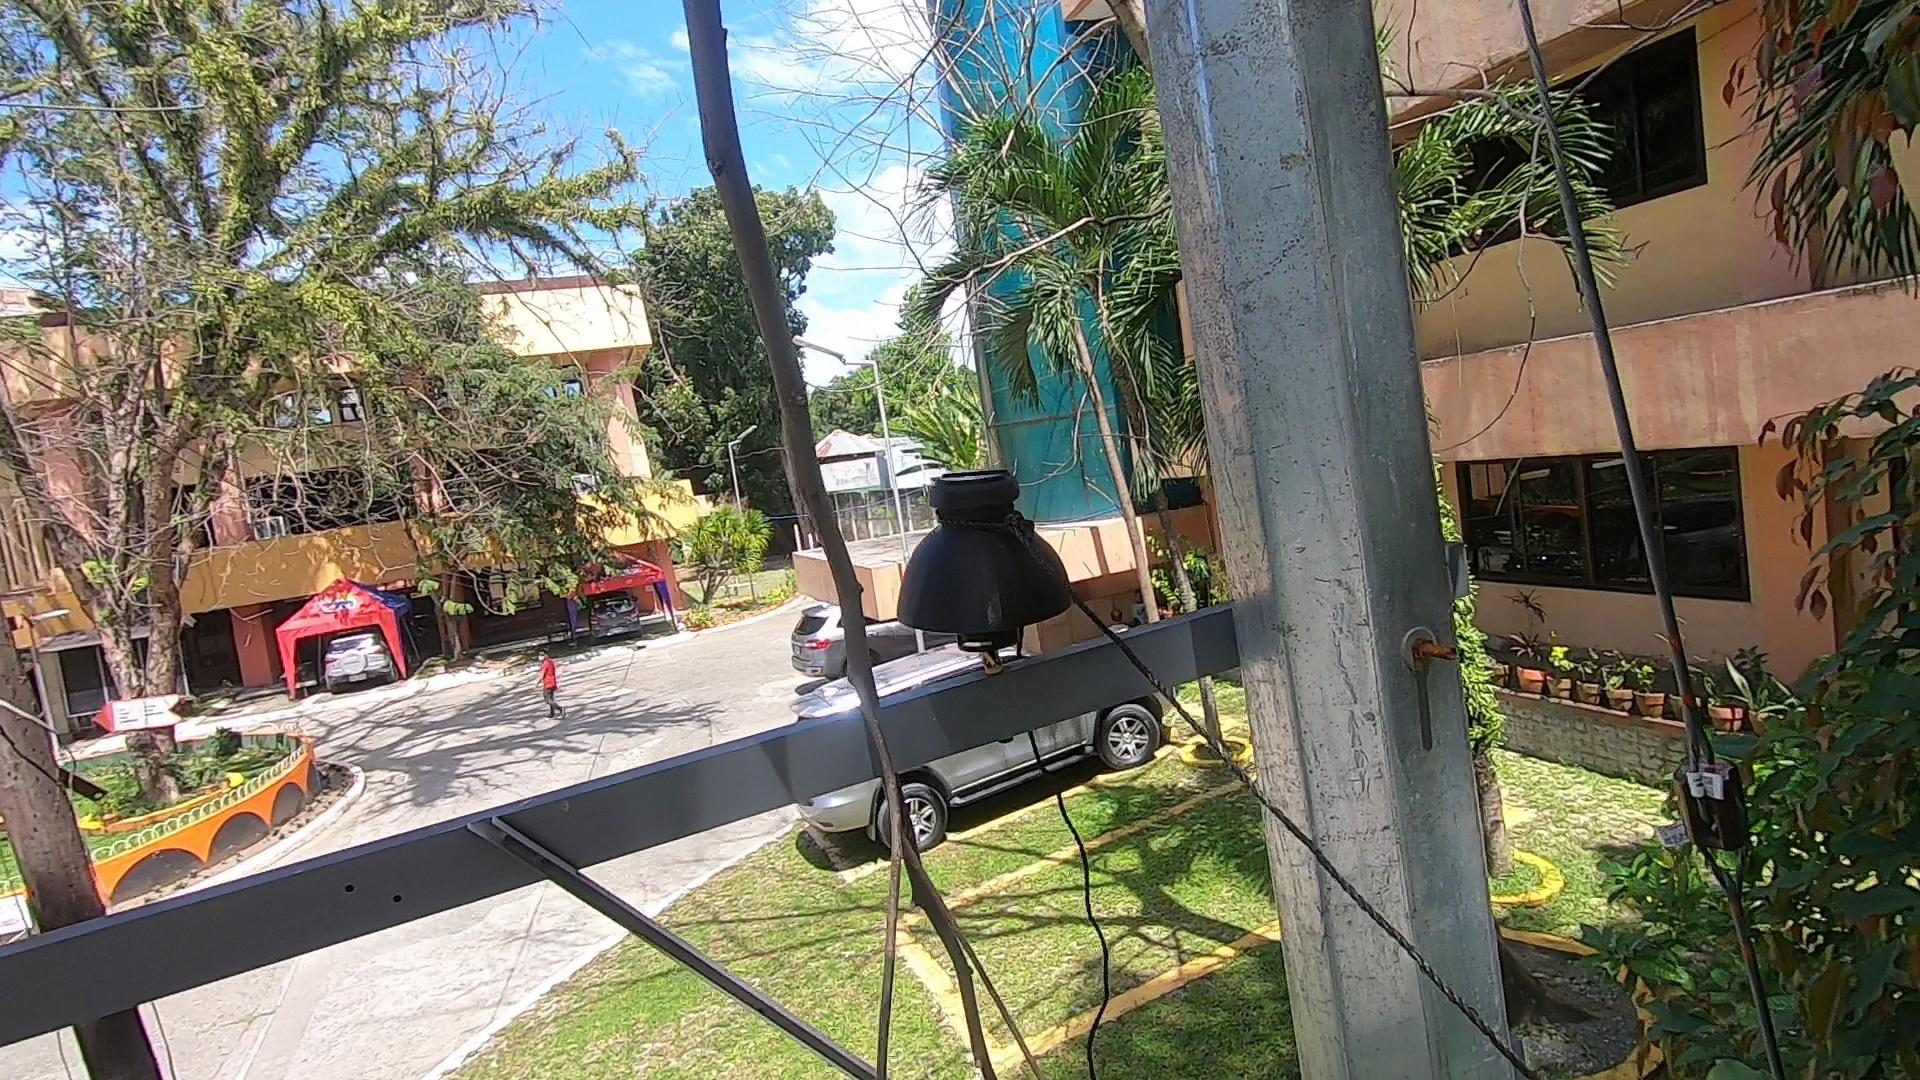tree branch: (626, 15, 1026, 1073)
